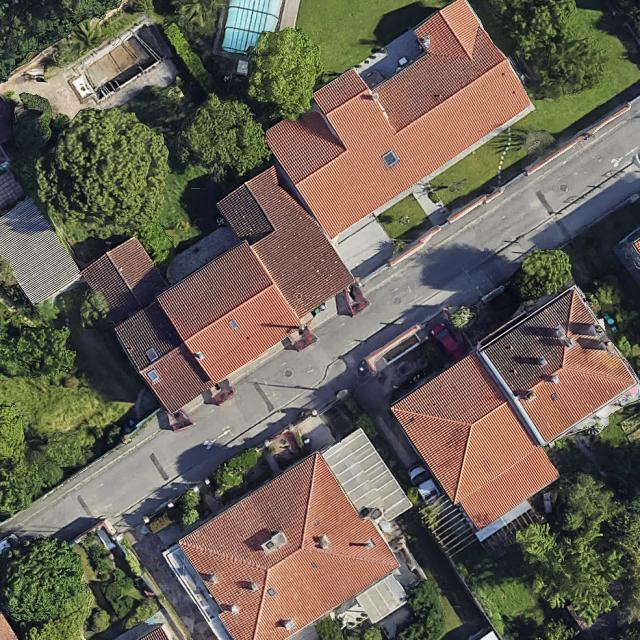maison: (78, 150, 362, 415), (254, 0, 538, 242), (172, 447, 401, 640), (389, 349, 559, 533), (472, 280, 640, 453)
